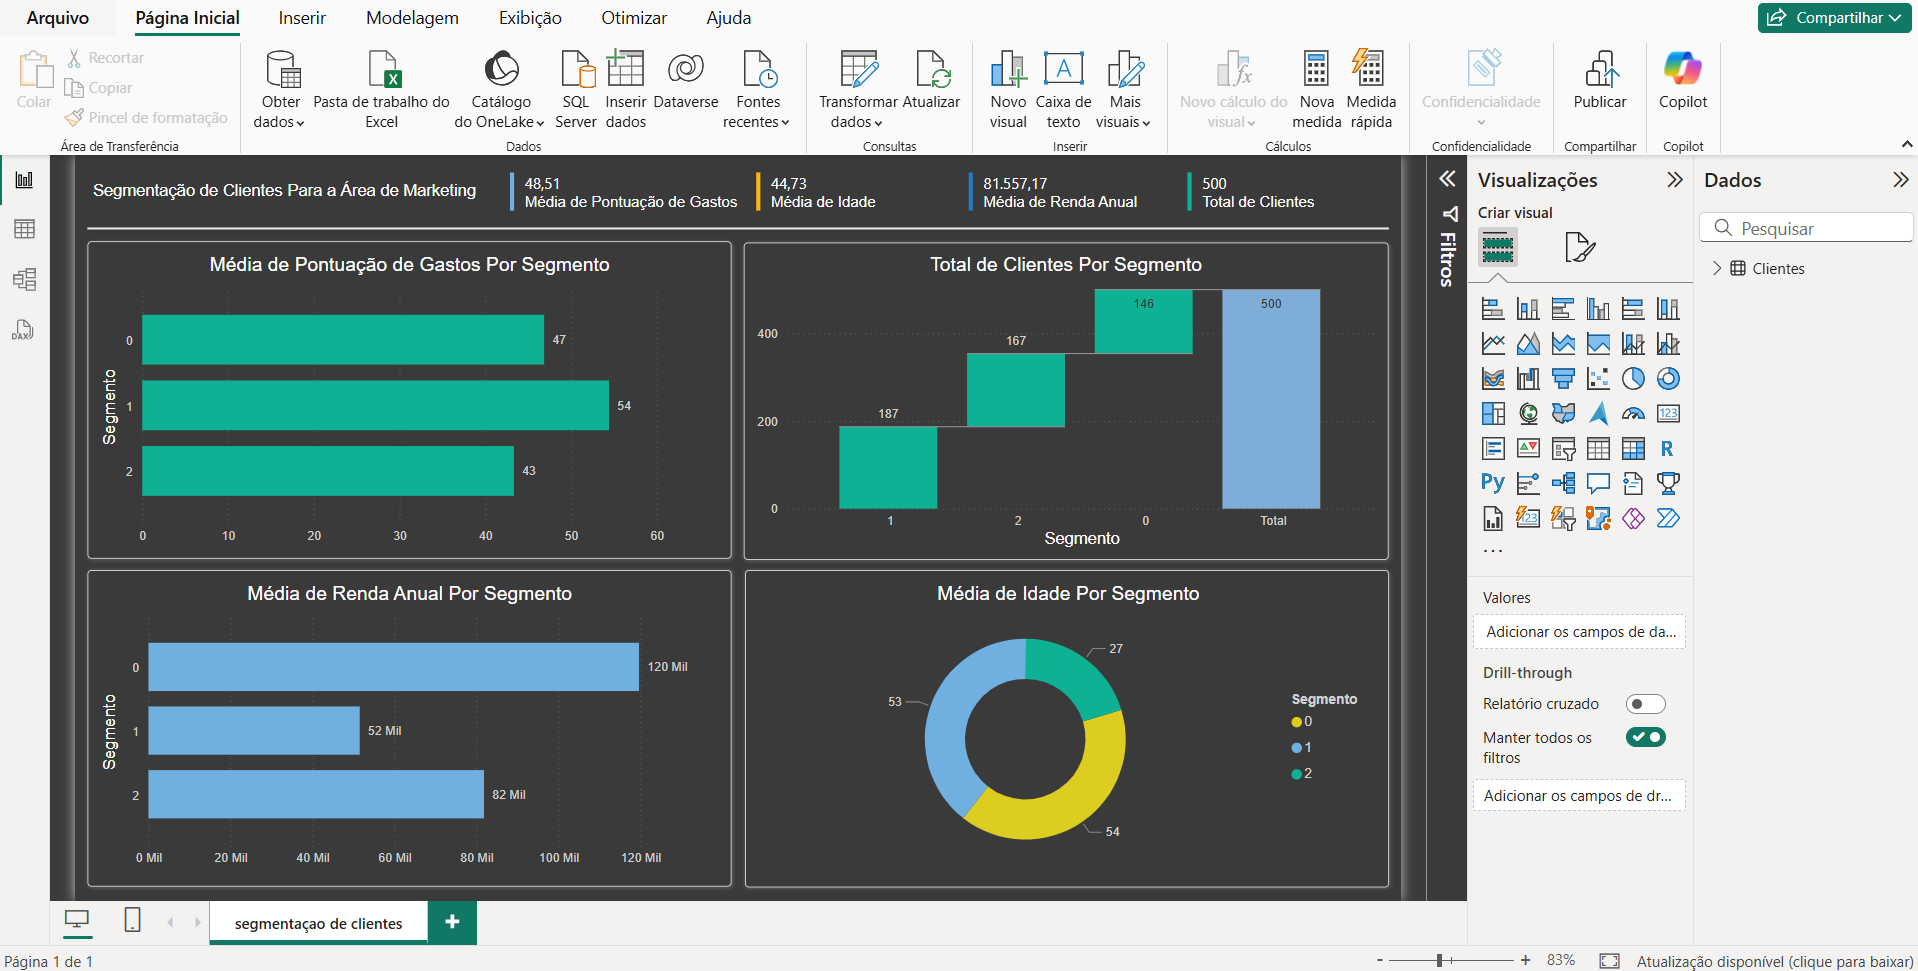

The page's visual inventory and layout, read from the dashboard file:
{"tool":"powerbi","page":{"name":"segmentaçao de clientes","canvas":[1280,720],"ordinal":0},"visuals":[{"type":"shape","box":[12,58,1256,26],"z":0},{"type":"shape","box":[12.3,83.5,621.5,306.7],"z":1000},{"type":"shape","box":[646,84,622,306],"z":2000},{"type":"shape","box":[12.3,401.1,621.5,305.3],"z":3000},{"type":"shape","box":[646.2,401.1,621.5,306.7],"z":4000},{"type":"clusteredBarChart","title":"Média de Renda Anual Por Segmento","fields":{"Category":["Table.cluster"],"Y":["Avg(Table.renda_anual)"]},"box":[20.5,412.1,605.1,282],"z":5000},{"type":"donutChart","title":"Média de Idade Por Segmento","fields":{"Category":["Table.cluster"],"Y":["Clientes.Média de Idade"]},"box":[655.7,412.1,605.1,282],"z":6000},{"type":"clusteredBarChart","title":"Média de Pontuação de Gastos Por Segmento","fields":{"Category":["Table.cluster"],"Y":["Avg(Table.pontuacao_gastos)"]},"box":[20.5,95.8,605.1,288.9],"z":7000},{"type":"multiRowCard","fields":{"Values":["CountNonNull(Table.id)"]},"box":[1069,12,199,50],"z":8000},{"type":"multiRowCard","fields":{"Values":["Avg(Table.renda_anual)"]},"box":[858,12,199,50],"z":9000},{"type":"multiRowCard","fields":{"Values":["Avg(Table.idade)"]},"box":[653,12.3,198.5,49.3],"z":10000},{"type":"multiRowCard","fields":{"Values":["Avg(Table.pontuacao_gastos)"]},"box":[414.8,12.3,231.4,49.3],"z":11000},{"type":"textbox","box":[12.1,20.5,403,44.6],"z":12000},{"type":"waterfallChart","title":"Total de Clientes Por Segmento","fields":{"Category":["Clientes.cluster"],"Y":["CountNonNull(Clientes.id)"]},"box":[653,95.8,607.8,288.9],"z":14000}]}

Visuals, with their boxes on the page's 1280x720 design canvas (x1, y1, x2, y2). These are canvas units, not pixel positions in the 1918x971 screenshot, which may show the page scaled, cropped or inside an application window:
shape: [12, 58, 1268, 84]
shape: [12, 84, 634, 390]
shape: [646, 84, 1268, 390]
shape: [12, 401, 634, 706]
shape: [646, 401, 1268, 708]
"Média de Renda Anual Por Segmento" clusteredBarChart: [20, 412, 626, 694]
"Média de Idade Por Segmento" donutChart: [656, 412, 1261, 694]
"Média de Pontuação de Gastos Por Segmento" clusteredBarChart: [20, 96, 626, 385]
multiRowCard - CountNonNull(Table.id): [1069, 12, 1268, 62]
multiRowCard - Avg(Table.renda_anual): [858, 12, 1057, 62]
multiRowCard - Avg(Table.idade): [653, 12, 852, 62]
multiRowCard - Avg(Table.pontuacao_gastos): [415, 12, 646, 62]
textbox: [12, 20, 415, 65]
"Total de Clientes Por Segmento" waterfallChart: [653, 96, 1261, 385]
